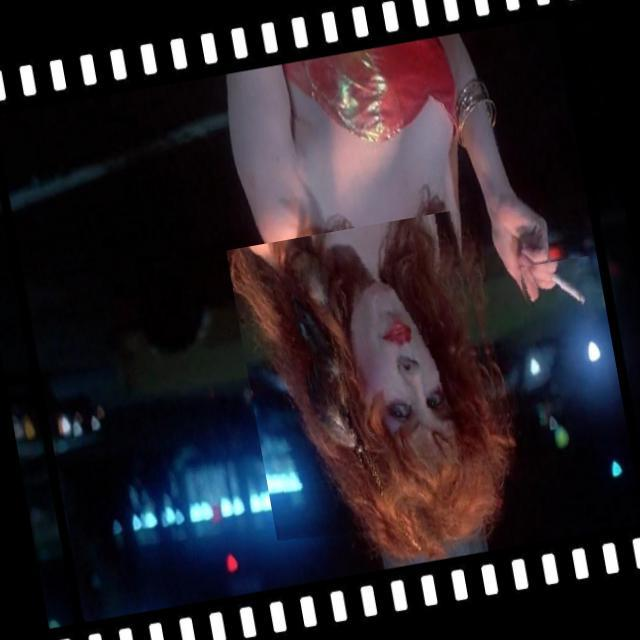cigarette: (514, 256, 602, 340)
